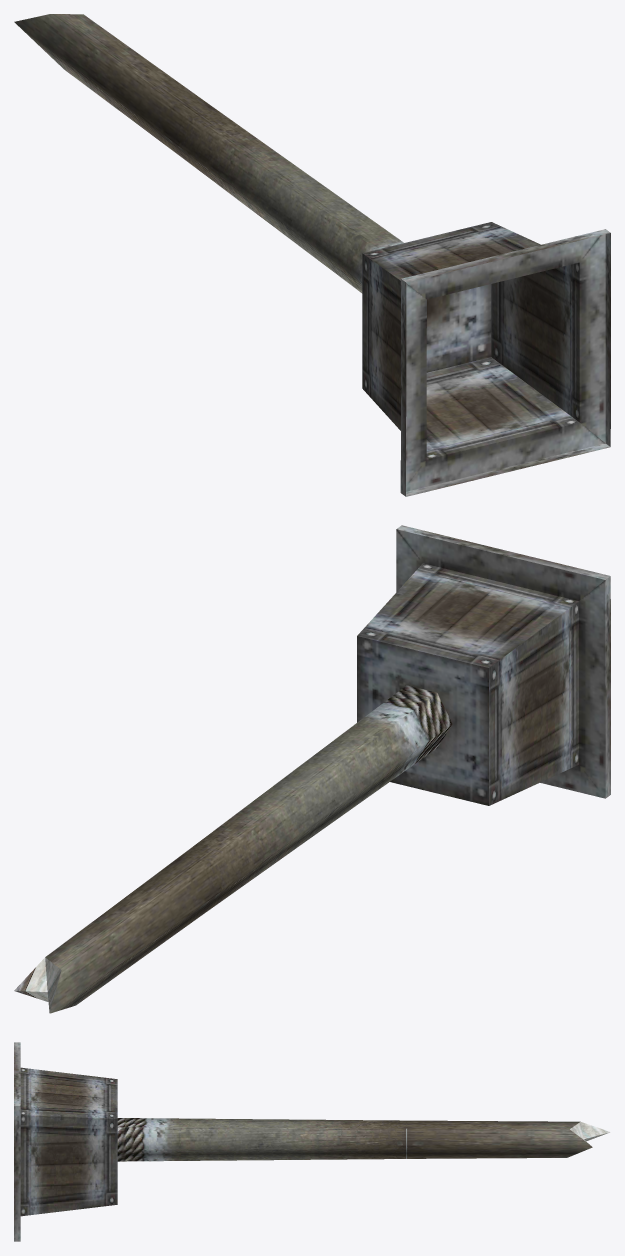
3 renders of one model, top to bottom at view 1: azimuth 30°, elevation 25°; view 2: azimuth 150°, elevation 25°; view 3: azimuth 270°, elevation 25°, orthographic. The views are drawn at different scales.
Parts seen in each view (by area): view 1: Object38; view 2: Object38; view 3: Object38.
Boxes of the visible parts, box(x1,y1,x2,y2) form: Object38: box(14, 14, 610, 496); Object38: box(14, 525, 610, 1013); Object38: box(14, 1042, 610, 1241).
Size of the model in its own units: 9251 by 9251 by 36834.
